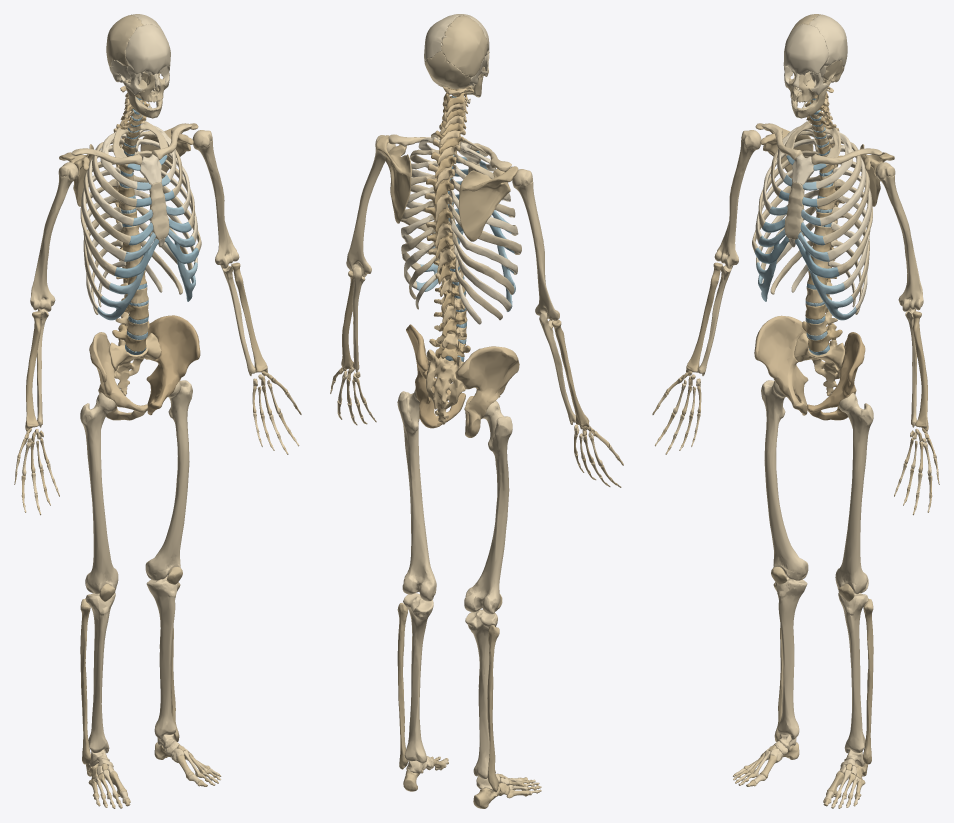
File: skeleton.glb
3 renders of one model, left to right at view 1: azimuth 30°, elevation 25°; view 2: azimuth 150°, elevation 25°; view 3: azimuth 330°, elevation 25°, orthographic. The views are drawn at different scales.
Visible parts, largest first — view 1: right-femur, left-femur, left-hip-bone, left-tibia, right-tibia, right-humerus, frontal-bone, right-hip-bone, left-humerus, sacrum, right-fibula, right-parietal-bone (+15 smaller); view 2: right-femur, left-femur, right-hip-bone, right-scapula, left-tibia, right-tibia, right-parietal-bone, right-humerus, sacrum, left-hip-bone, left-humerus, left-scapula (+12 smaller); view 3: left-femur, right-femur, right-hip-bone, right-tibia, left-tibia, left-humerus, left-hip-bone, right-humerus, frontal-bone, sacrum, left-parietal-bone, left-fibula (+15 smaller).
Part boxes in pixels (bbox=[...]): right-femur: bbox=[80, 392, 118, 594]; left-femur: bbox=[145, 380, 192, 580]; left-hip-bone: bbox=[146, 315, 200, 415]; left-tibia: bbox=[146, 575, 178, 739]; right-tibia: bbox=[85, 593, 115, 753]; right-humerus: bbox=[30, 162, 78, 311]; frontal-bone: bbox=[125, 24, 170, 75]; right-hip-bone: bbox=[89, 332, 147, 420]; left-humerus: bbox=[192, 130, 239, 268]; sacrum: bbox=[109, 333, 161, 395]; right-fibula: bbox=[80, 598, 90, 764]; right-parietal-bone: bbox=[106, 15, 143, 67]; right-femur: bbox=[464, 401, 512, 614]; left-femur: bbox=[397, 389, 436, 601]; right-hip-bone: bbox=[456, 346, 519, 437]; right-scapula: bbox=[459, 166, 518, 241]; left-tibia: bbox=[403, 593, 433, 762]; right-tibia: bbox=[465, 609, 497, 778]; right-parietal-bone: bbox=[441, 15, 487, 77]; right-humerus: bbox=[512, 169, 559, 320]; sacrum: bbox=[426, 349, 465, 424]; left-hip-bone: bbox=[406, 324, 465, 428]; left-humerus: bbox=[346, 135, 395, 277]; left-scapula: bbox=[376, 135, 411, 223]; left-femur: bbox=[835, 392, 873, 594]; right-femur: bbox=[761, 380, 808, 580]; right-hip-bone: bbox=[754, 315, 808, 415]; right-tibia: bbox=[775, 575, 807, 739]; left-tibia: bbox=[838, 593, 868, 753]; left-humerus: bbox=[875, 162, 923, 311]; left-hip-bone: bbox=[806, 332, 865, 420]; right-humerus: bbox=[714, 130, 761, 268]; frontal-bone: bbox=[783, 24, 828, 75]; sacrum: bbox=[794, 333, 845, 396]; left-parietal-bone: bbox=[809, 15, 847, 67]; left-fibula: bbox=[863, 598, 873, 764].
Size of the model in its own units: 1.61 by 4.05 by 0.5187.
